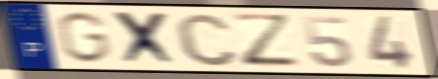4: (366, 14, 416, 71)
5: (300, 15, 355, 69)
C: (173, 11, 241, 69)
G: (54, 10, 113, 65)
X: (111, 9, 182, 68)
Z: (229, 11, 304, 69)
